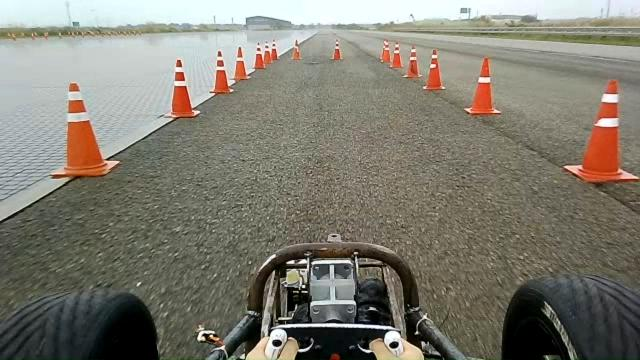red cone: (563, 79, 639, 185), (50, 81, 120, 179), (464, 56, 501, 116), (164, 58, 200, 118), (209, 49, 234, 93), (422, 49, 446, 90), (230, 45, 250, 81), (402, 44, 422, 78), (389, 41, 404, 68), (252, 42, 266, 70)
